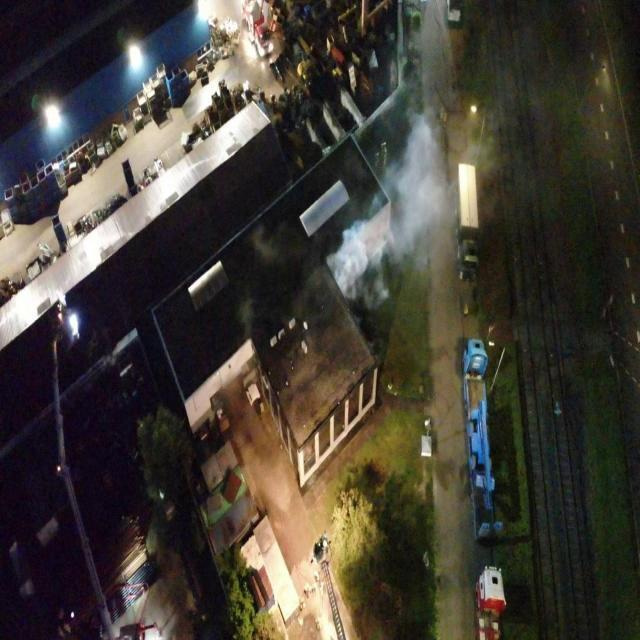Smoke: (326, 101, 498, 311), (250, 222, 286, 263), (234, 292, 253, 340)
